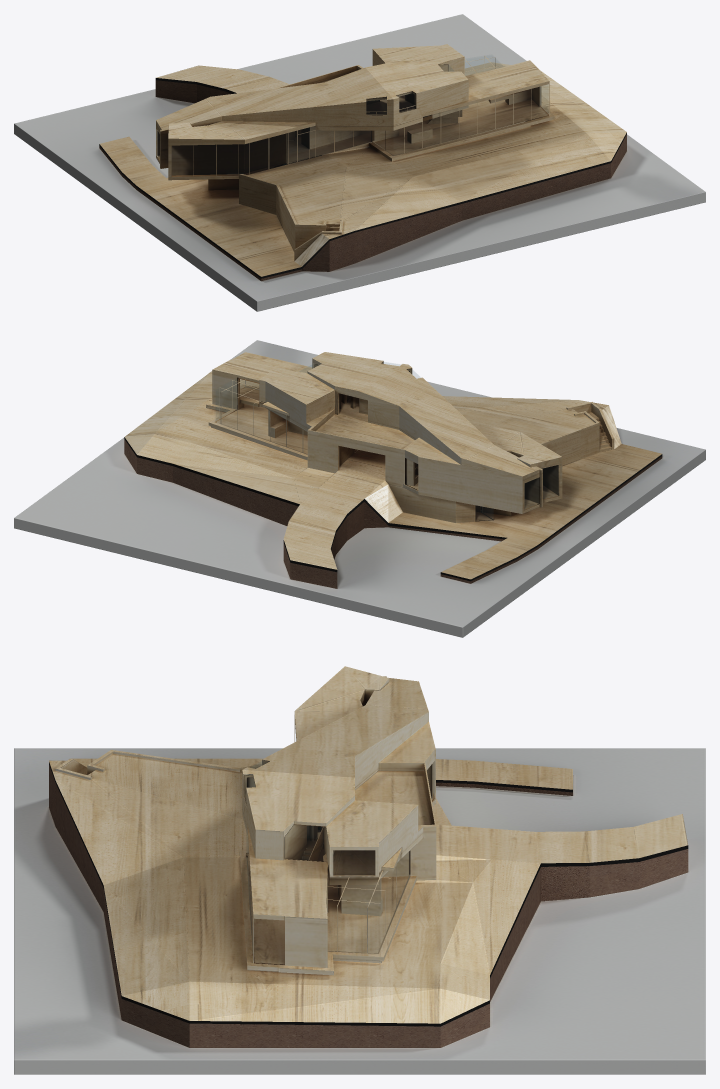
File: house.glb
3 views of the same model, one above another, from view 1: azimuth 30°, elevation 25°; view 2: azimuth 150°, elevation 25°; view 3: azimuth 270°, elevation 25° (orthographic). The views are drawn at different scales.
Visible parts, largest first — view 1: BATI_BATI_0, SOCLE, COUPE_TERRAIN_BAKE.TERRE_0, COUPE_TERRAIN_BAKE.TRAIT_COUPE_0; view 2: BATI_BATI_0, SOCLE, COUPE_TERRAIN_BAKE.TERRE_0, COUPE_TERRAIN_BAKE.TRAIT_COUPE_0, VITRES_VITRES_0; view 3: BATI_BATI_0, SOCLE, COUPE_TERRAIN_BAKE.TERRE_0, COUPE_TERRAIN_BAKE.TRAIT_COUPE_0.
Part boxes in pixels (x1,y1,x2,y2): BATI_BATI_0: (100, 44, 626, 276); SOCLE: (14, 14, 705, 311); COUPE_TERRAIN_BAKE.TERRE_0: (99, 80, 626, 281); COUPE_TERRAIN_BAKE.TRAIT_COUPE_0: (99, 78, 626, 278); BATI_BATI_0: (125, 352, 661, 579); SOCLE: (14, 340, 705, 637); COUPE_TERRAIN_BAKE.TERRE_0: (124, 439, 662, 588); COUPE_TERRAIN_BAKE.TRAIT_COUPE_0: (124, 437, 662, 581); VITRES_VITRES_0: (216, 362, 492, 518); BATI_BATI_0: (49, 666, 687, 1023); SOCLE: (14, 748, 705, 1074); COUPE_TERRAIN_BAKE.TERRE_0: (49, 764, 688, 1047); COUPE_TERRAIN_BAKE.TRAIT_COUPE_0: (49, 762, 688, 1026).
Size of the model in its own units: 4565 by 982 by 4283.
6 materials, 4 textured.
